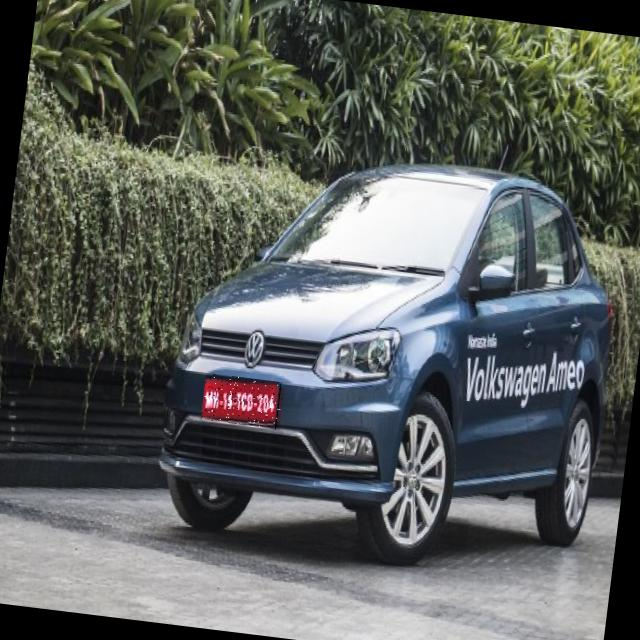Plate: (202, 374, 285, 431)
